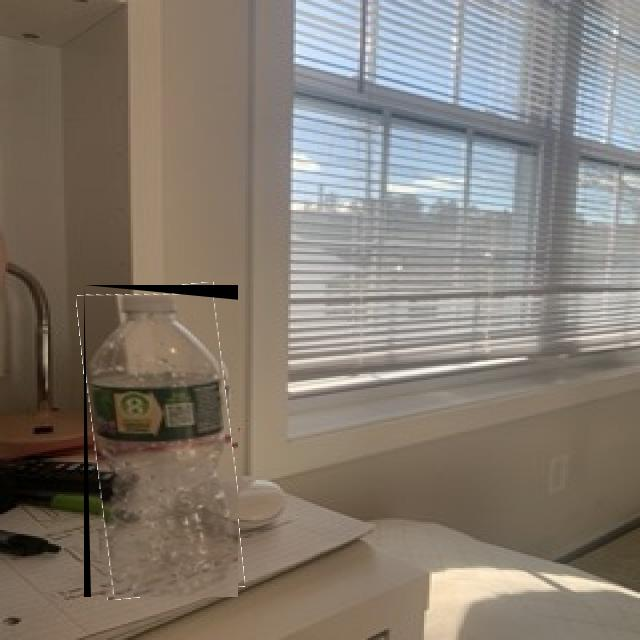water_bottle: (84, 285, 238, 597)
